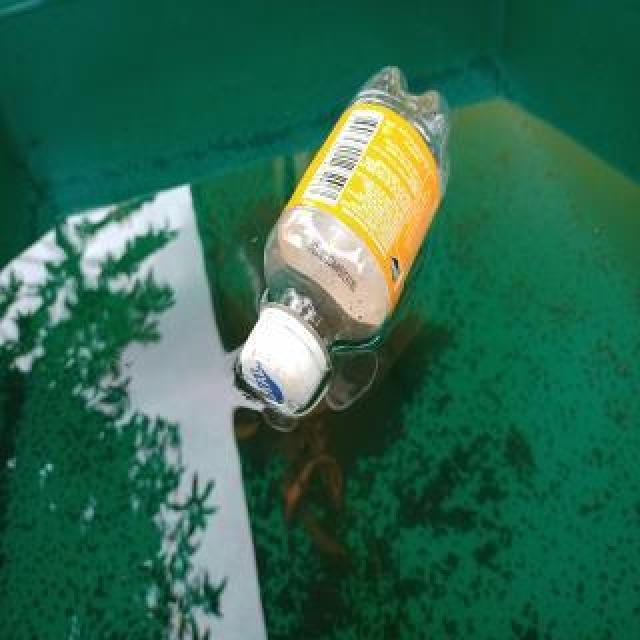bottle: (238, 55, 456, 421)
